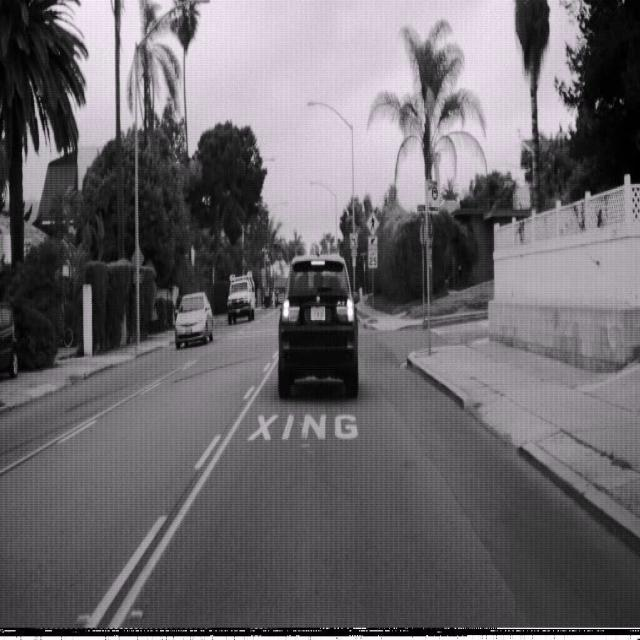pedestrianCrossing: (366, 210, 378, 235)
speedLimit25: (368, 243, 378, 268)
